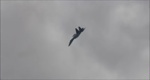maybay_muctieu: (67, 26, 87, 47)
